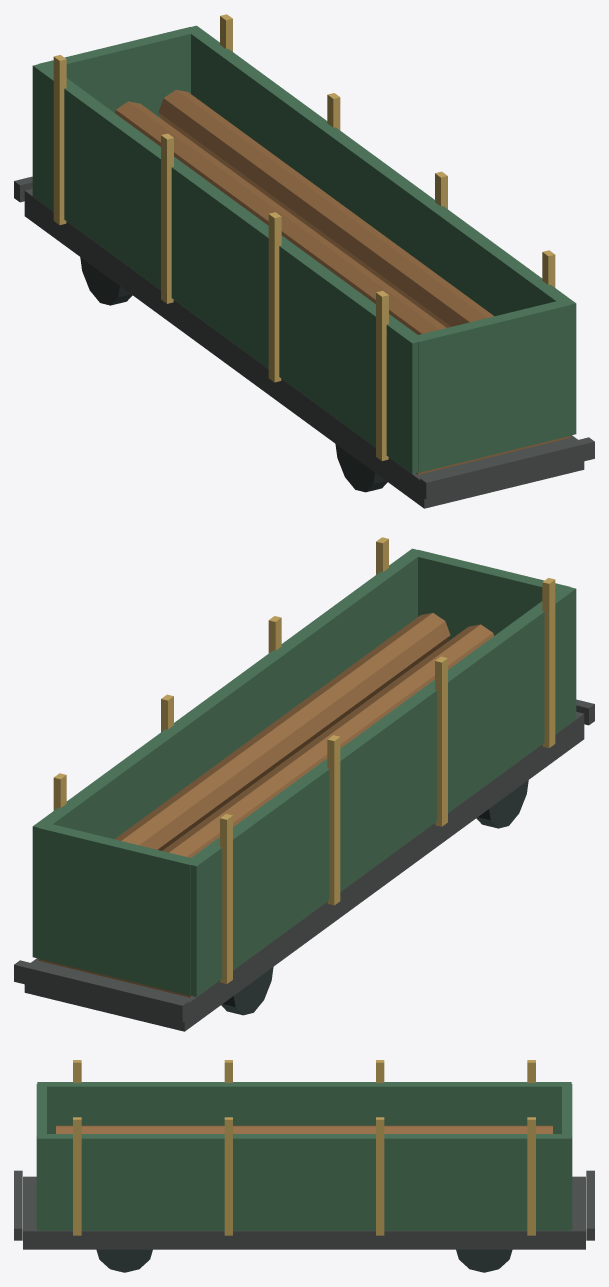
Rendered from fjord-freight-wagon_lod0.glb.
The picture shows the model from 3 angles, top to bottom: view 1: azimuth 30°, elevation 25°; view 2: azimuth 150°, elevation 25°; view 3: azimuth 270°, elevation 25°; orthographic projection. The views are drawn at different scales.
Visible parts, largest first — view 1: RF_Freight_Side.001, RF_Freight_Side, RF_Freight_End.001, RF_Timber_Load, RF_Freight_Chassis, RF_Timber_Load.002, RF_Freight_End, RF_Freight_Buffer.001, RF_Freight_Stake.002, RF_Freight_Stake.004, RF_Freight_Stake.003, RF_Freight_Stake.001 (+2 smaller); view 2: RF_Freight_Side.001, RF_Freight_Side, RF_Freight_End, RF_Timber_Load, RF_Freight_Chassis, RF_Timber_Load.002, RF_Freight_End.001, RF_Freight_Buffer, RF_Freight_Stake.001, RF_Freight_Stake.003, RF_Freight_Stake.002, RF_Freight_Stake.004 (+2 smaller); view 3: RF_Freight_Side, RF_Freight_Side.001, RF_Freight_Chassis, RF_Timber_Load.001, RF_Freight_Stake.005, RF_Freight_Stake.006, RF_Freight_Stake.007, RF_Freight_Stake, RF_Wheel.002, RF_Wheel, RF_Freight_End.001, RF_Freight_End (+2 smaller).
Boxes of the visible parts, box(x1,y1,x2,y2) form: RF_Freight_Side.001: box(32, 62, 423, 473); RF_Freight_Side: box(184, 25, 576, 435); RF_Freight_End.001: box(414, 300, 570, 472); RF_Timber_Load: box(158, 90, 493, 327); RF_Freight_Chassis: box(24, 189, 584, 508); RF_Timber_Load.002: box(115, 101, 446, 334); RF_Freight_End: box(39, 27, 195, 118); RF_Freight_Buffer.001: box(420, 437, 594, 499); RF_Freight_Stake.002: box(268, 212, 281, 382); RF_Freight_Stake.004: box(53, 55, 66, 224); RF_Freight_Stake.003: box(161, 133, 173, 303); RF_Freight_Stake.001: box(376, 291, 388, 460); RF_Freight_Side.001: box(185, 585, 576, 996); RF_Freight_Side: box(32, 548, 424, 958); RF_Freight_End: box(38, 823, 193, 995); RF_Timber_Load: box(115, 613, 450, 850); RF_Freight_Chassis: box(24, 712, 584, 1031); RF_Timber_Load.002: box(162, 624, 493, 857); RF_Freight_End.001: box(411, 550, 569, 641); RF_Freight_Buffer: box(14, 960, 188, 1022); RF_Freight_Stake.001: box(542, 578, 555, 747); RF_Freight_Stake.003: box(327, 735, 340, 905); RF_Freight_Stake.002: box(435, 656, 447, 826); RF_Freight_Stake.004: box(220, 814, 232, 983); RF_Freight_Side: box(37, 1134, 571, 1230); RF_Freight_Side.001: box(37, 1082, 571, 1133); RF_Freight_Chassis: box(23, 1176, 585, 1249); RF_Timber_Load.001: box(56, 1125, 552, 1133); RF_Freight_Stake.005: box(73, 1117, 81, 1235); RF_Freight_Stake.006: box(224, 1117, 232, 1235); RF_Freight_Stake.007: box(376, 1117, 384, 1235); RF_Freight_Stake: box(527, 1117, 535, 1235); RF_Wheel.002: box(96, 1249, 152, 1272); RF_Wheel: box(456, 1249, 512, 1272); RF_Freight_End.001: box(36, 1084, 46, 1228); RF_Freight_End: box(562, 1084, 572, 1228).
Size of the model in its own units: 2.98 by 3.65 by 12.28.
